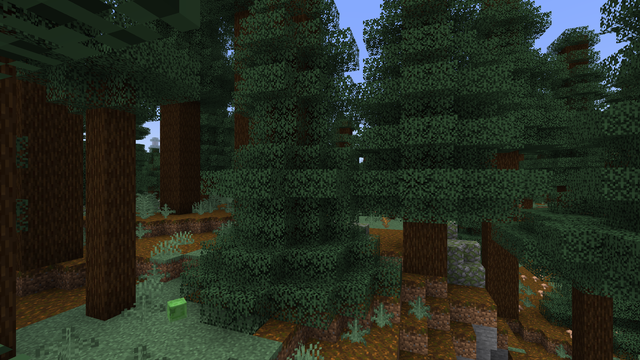slimes: (164, 297, 188, 322)
